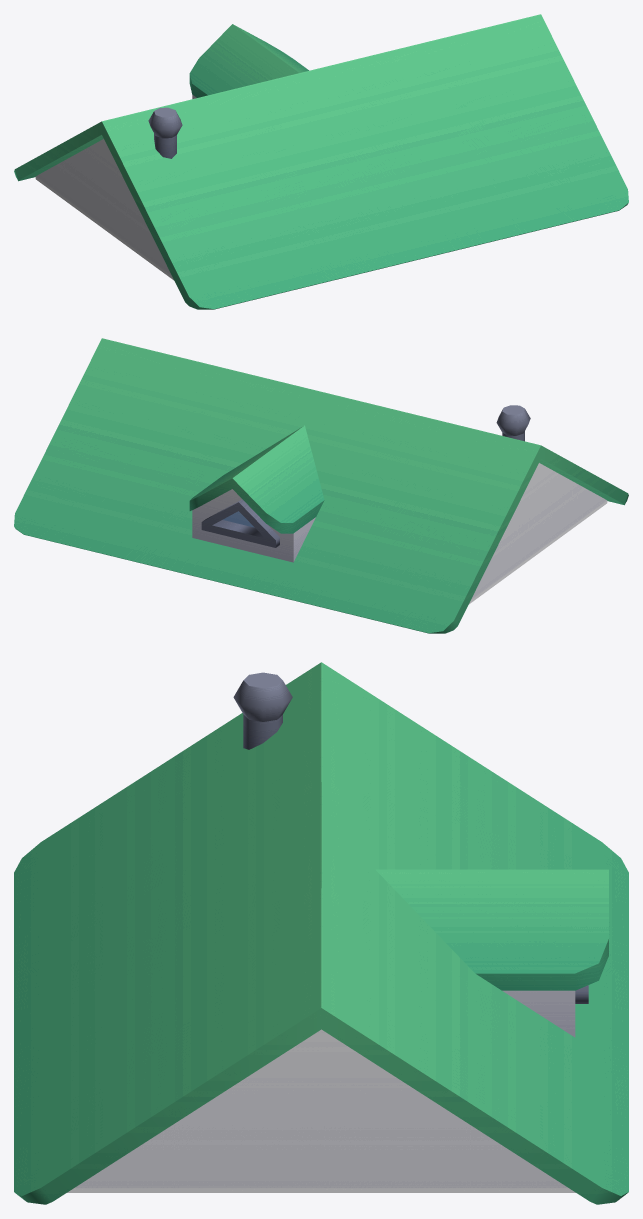
File: suburban-g.glb
3 views of the same model, one above another, from view 1: azimuth 30°, elevation 25°; view 2: azimuth 150°, elevation 25°; view 3: azimuth 270°, elevation 25° (orthographic). The views are drawn at different scales.
Visible parts, largest first — view 1: building-type-g; view 2: building-type-g; view 3: building-type-g.
Boxes of the visible parts, x1,y1,x2,y2 form: building-type-g: [14, 14, 628, 309]; building-type-g: [14, 338, 628, 633]; building-type-g: [14, 662, 628, 1204].
Bounding box in the file's own units: 13.45 × 3.92 × 10.11.
1 material, 1 textured.
